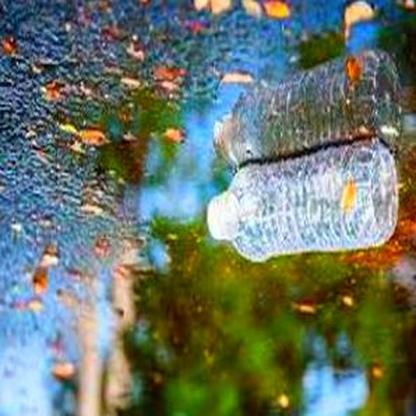plastic bottle: (206, 141, 398, 263)
